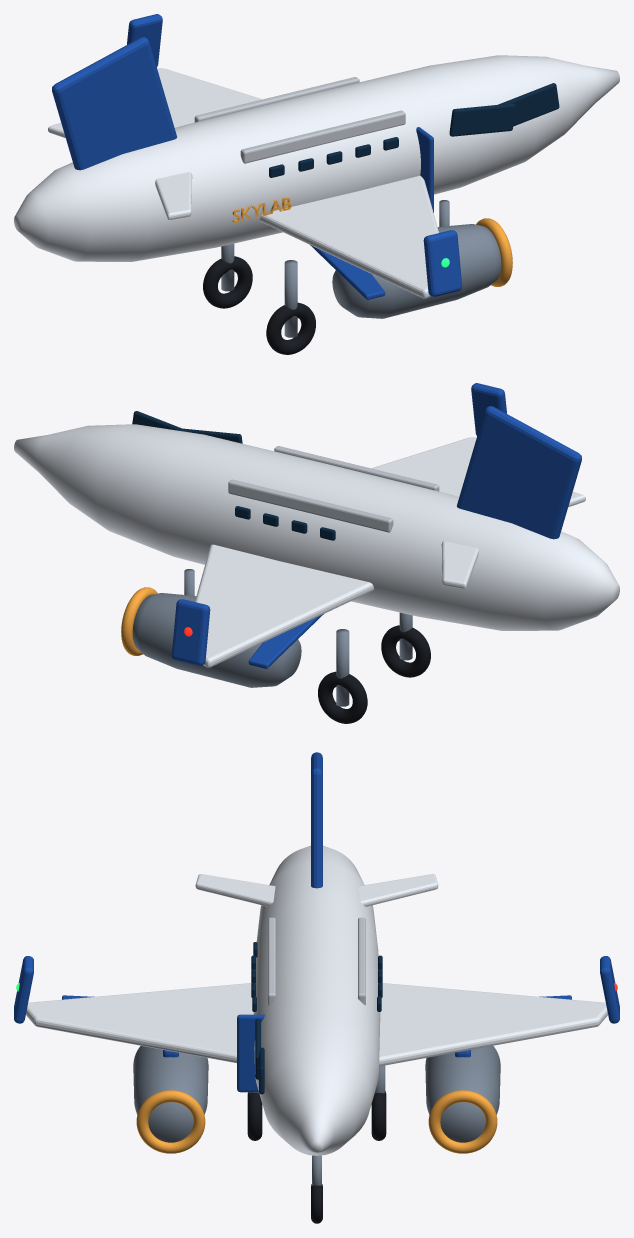
Rendered from airplane-model-v2.glb.
The picture shows the model from 3 angles, top to bottom: view 1: azimuth 30°, elevation 25°; view 2: azimuth 150°, elevation 25°; view 3: azimuth 270°, elevation 25°; orthographic projection. The views are drawn at different scales.
Visible parts, largest first — view 1: Streamlined Fuselage, Starboard Sculpted Wing, Vertical Stabilizer, Starboard High Bypass Nacelle, Port Sculpted Wing, Port Overhead Bin, Starboard Winglet, Cockpit Side Glass, Starboard Main Wheel, Port Main Wheel, Starboard Sculpted Tailplane, Cockpit Front Glass (+8 smaller); view 2: Streamlined Fuselage, Port Sculpted Wing, Vertical Stabilizer, Port High Bypass Nacelle, Starboard Sculpted Wing, Starboard Overhead Bin, Port Winglet, Port Main Wheel, Starboard Main Wheel, Port Sculpted Tailplane, Port Flap, Port Overhead Bin (+5 smaller); view 3: Streamlined Fuselage, Port Sculpted Wing, Starboard Sculpted Wing, Port High Bypass Nacelle, Starboard High Bypass Nacelle, Port Fan Intake, Starboard Fan Intake, Vertical Stabilizer, Cabin Door, Port Sculpted Tailplane, Starboard Sculpted Tailplane, Port Winglet (+5 smaller).
Boxes of the visible parts, x1,y1,x2,y2 form: Streamlined Fuselage: [14, 55, 619, 261]; Starboard Sculpted Wing: [260, 175, 438, 298]; Vertical Stabilizer: [52, 37, 176, 170]; Starboard High Bypass Nacelle: [332, 224, 501, 318]; Port Sculpted Wing: [157, 68, 262, 127]; Port Overhead Bin: [240, 110, 405, 163]; Starboard Winglet: [423, 230, 462, 296]; Cockpit Side Glass: [449, 103, 515, 136]; Starboard Main Wheel: [266, 302, 315, 354]; Port Main Wheel: [203, 256, 252, 308]; Starboard Sculpted Tailplane: [155, 172, 192, 219]; Cockpit Front Glass: [498, 83, 559, 126]; Streamlined Fuselage: [14, 424, 619, 630]; Port Sculpted Wing: [195, 544, 373, 667]; Vertical Stabilizer: [457, 406, 581, 539]; Port High Bypass Nacelle: [132, 593, 301, 687]; Starboard Sculpted Wing: [371, 437, 476, 496]; Starboard Overhead Bin: [228, 479, 393, 532]; Port Winglet: [171, 599, 210, 665]; Port Main Wheel: [318, 671, 367, 723]; Starboard Main Wheel: [381, 625, 430, 677]; Port Sculpted Tailplane: [441, 541, 478, 588]; Port Flap: [248, 614, 323, 668]; Port Overhead Bin: [274, 446, 439, 491]; Streamlined Fuselage: [253, 845, 380, 1155]; Port Sculpted Wing: [379, 983, 607, 1066]; Starboard Sculpted Wing: [26, 983, 253, 1063]; Port High Bypass Nacelle: [425, 1046, 500, 1142]; Starboard High Bypass Nacelle: [133, 1046, 208, 1142]; Port Fan Intake: [428, 1090, 497, 1153]; Starboard Fan Intake: [136, 1090, 205, 1153]; Vertical Stabilizer: [311, 752, 322, 888]; Cabin Door: [237, 1014, 265, 1092]; Port Sculpted Tailplane: [358, 874, 438, 906]; Starboard Sculpted Tailplane: [195, 874, 275, 906]; Port Winglet: [600, 956, 619, 1023].
Size of what is drawn, in the model's own units: 14.75 by 7.56 by 13.2.
